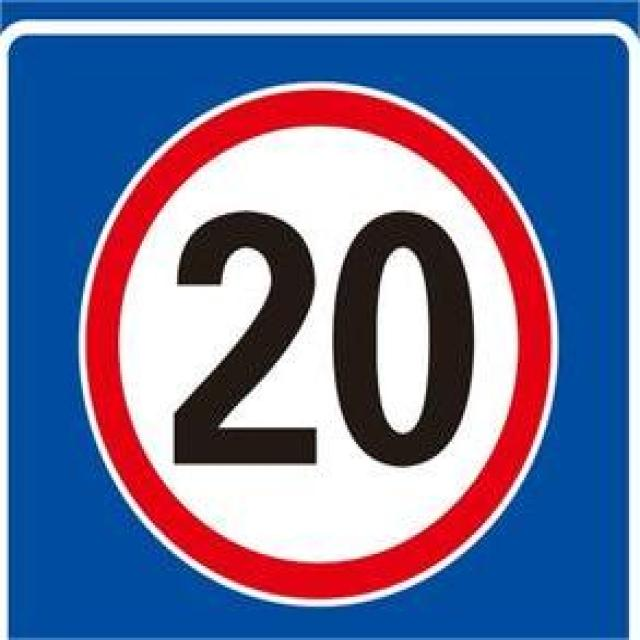speed limit 20: (77, 81, 561, 610)
